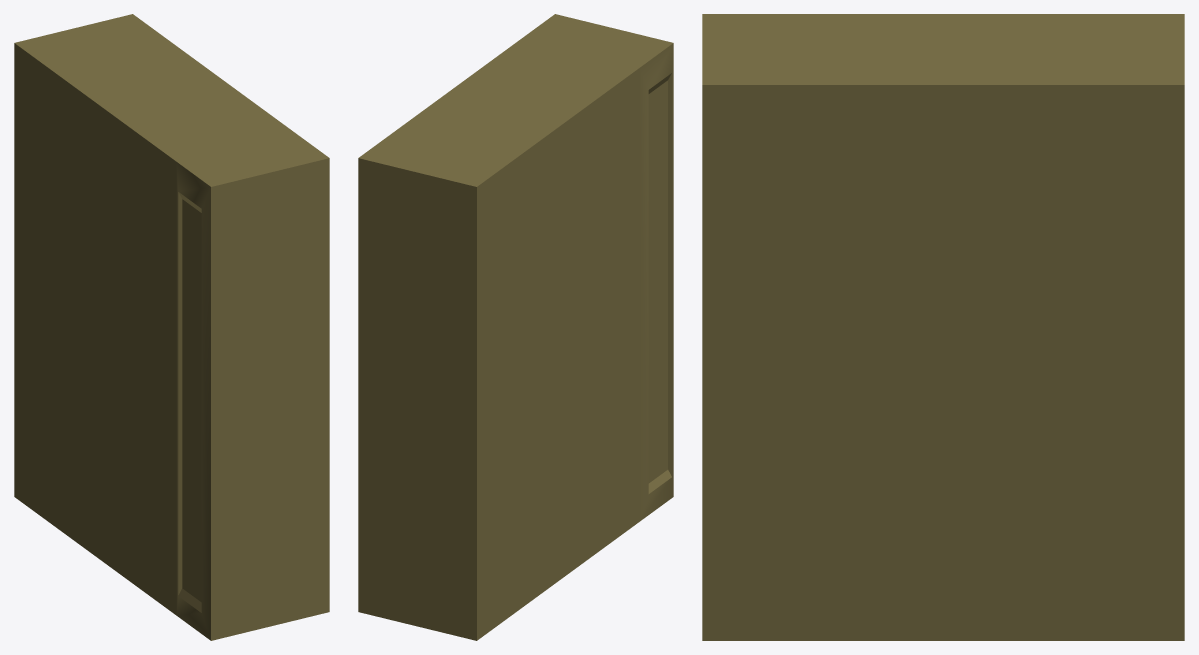
File: Lever_Special_02_Base.fbx
The picture shows the model from 3 angles, left to right: view 1: azimuth 30°, elevation 25°; view 2: azimuth 150°, elevation 25°; view 3: azimuth 270°, elevation 25°; orthographic projection. The views are drawn at different scales.
Visible parts, largest first — view 1: Lever_Special_02_Base; view 2: Lever_Special_02_Base; view 3: Lever_Special_02_Base.
Boxes of the visible parts, left/top/right/bottom form: Lever_Special_02_Base: left=14, top=14, right=329, bottom=640; Lever_Special_02_Base: left=358, top=14, right=673, bottom=640; Lever_Special_02_Base: left=702, top=14, right=1184, bottom=640.
Bounding box in the file's own units: 3 × 10.6 × 8.33.
